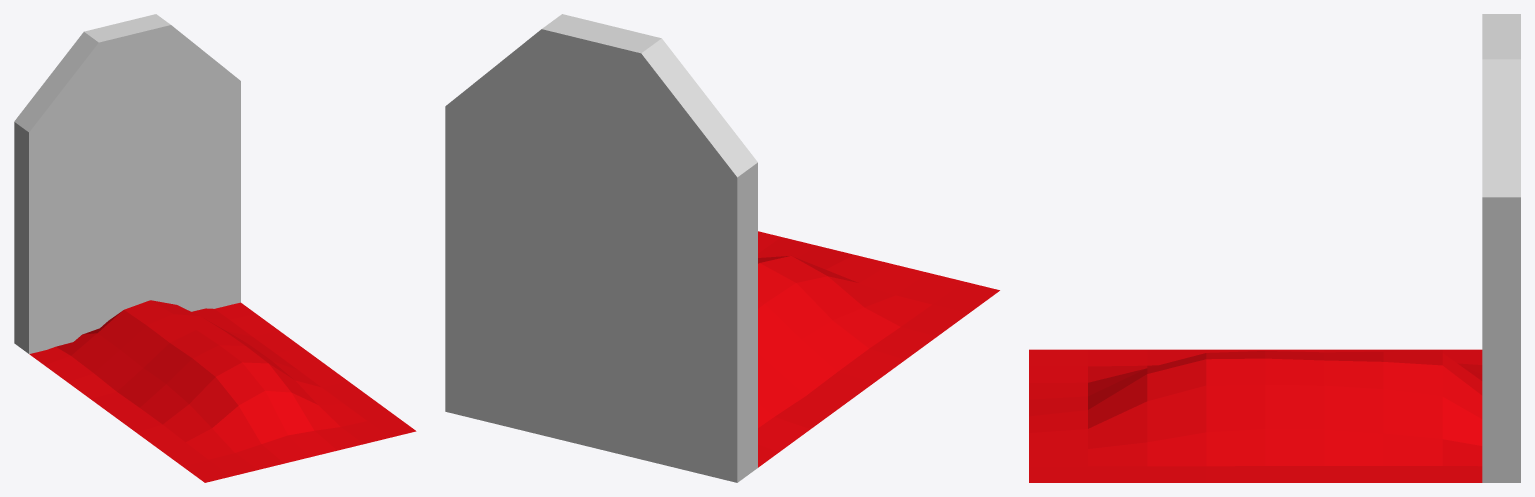
The model's file is Grave_03.fbx.
3 views of the same model, side by side, from view 1: azimuth 30°, elevation 25°; view 2: azimuth 150°, elevation 25°; view 3: azimuth 270°, elevation 25° (orthographic). The views are drawn at different scales.
Visible parts, largest first — view 1: Cube.007, Plane.008; view 2: Cube.007, Plane.008; view 3: Plane.008, Cube.007.
Boxes of the visible parts, bbox=[...] form: Cube.007: bbox=[14, 14, 240, 353]; Plane.008: bbox=[29, 300, 416, 482]; Cube.007: bbox=[445, 14, 757, 482]; Plane.008: bbox=[758, 231, 999, 467]; Plane.008: bbox=[1029, 349, 1482, 482]; Cube.007: bbox=[1482, 14, 1520, 482].
Size of the model in its own units: 2 by 2.66 by 3.12.
